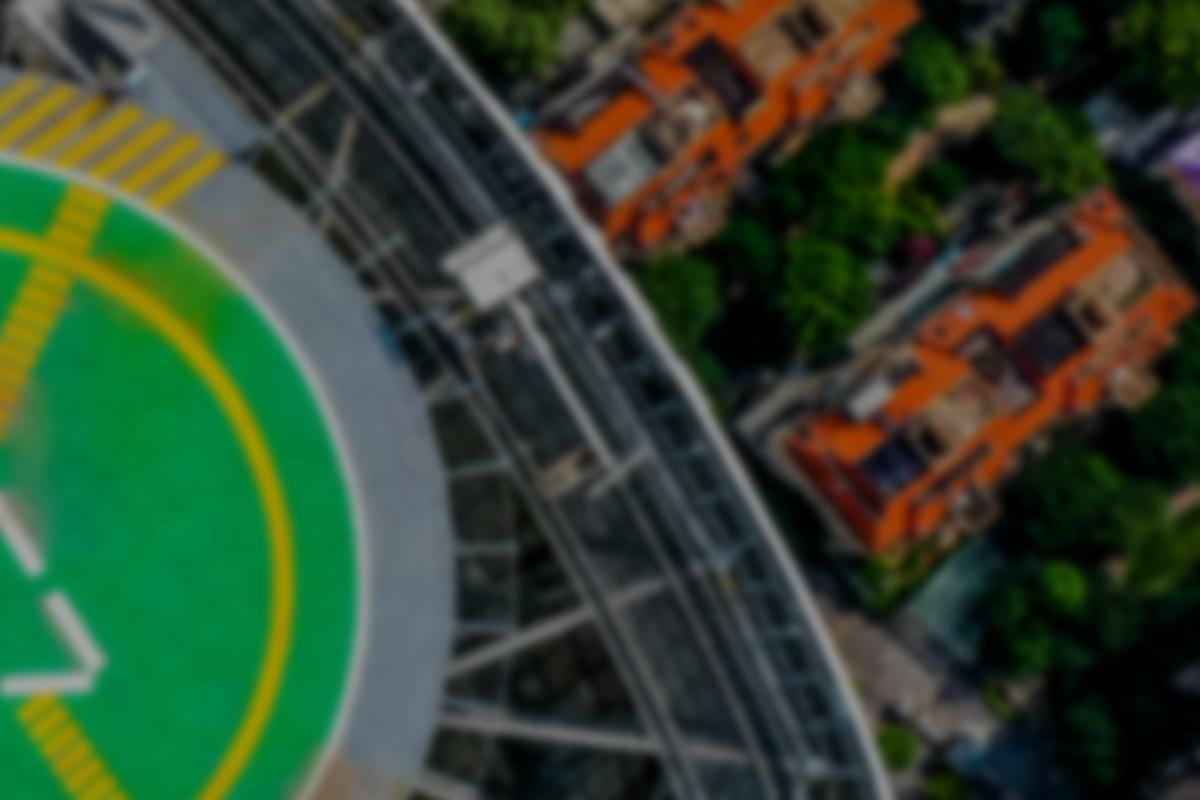Apron: (6, 209, 304, 800)
